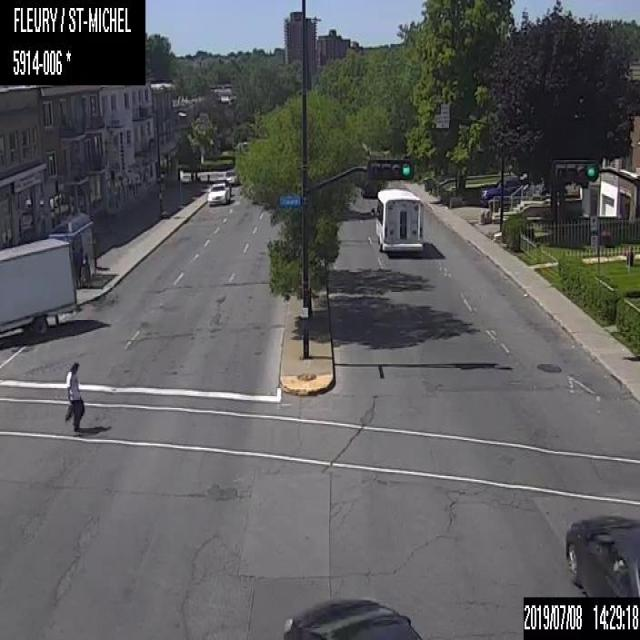bus: (372, 179, 422, 254)
pedestrian: (64, 360, 84, 437), (74, 244, 90, 288)
vehicle: (0, 236, 75, 339), (282, 593, 422, 639), (564, 513, 639, 595), (481, 172, 521, 206), (206, 180, 231, 207), (221, 168, 240, 186)
